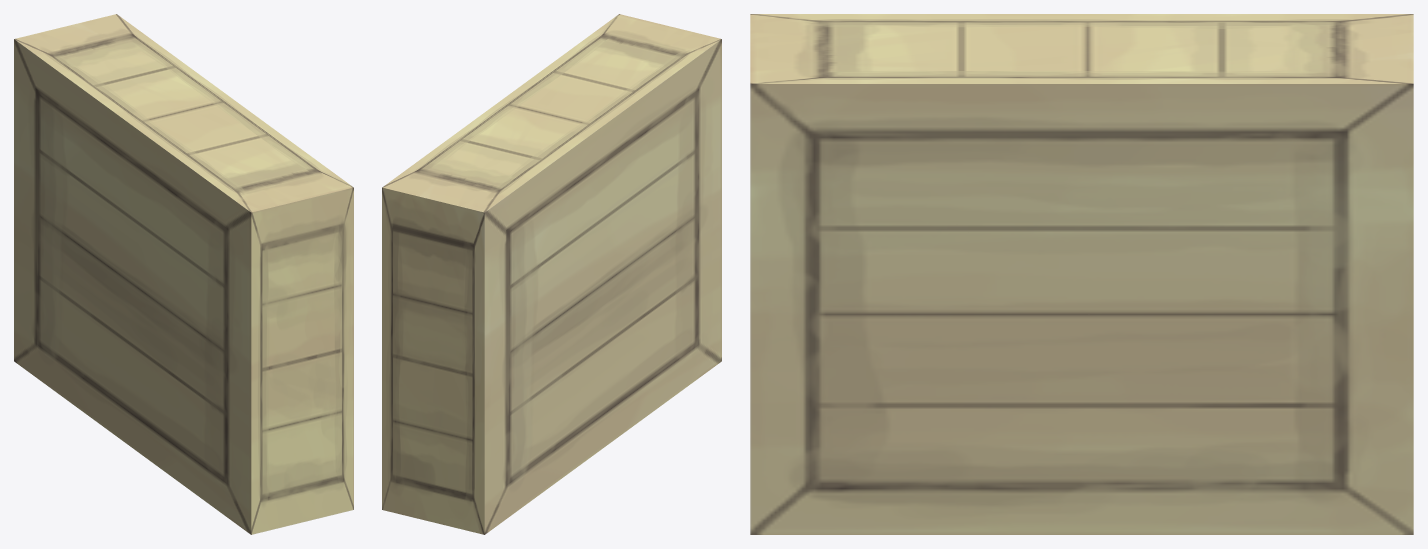
File: LightWoodMechTallSlattedCrate1.fbx
3 views of the same model, side by side, from view 1: azimuth 30°, elevation 25°; view 2: azimuth 150°, elevation 25°; view 3: azimuth 270°, elevation 25° (orthographic). The views are drawn at different scales.
Visible parts, largest first — view 1: LightWoodMechTallSlattedCrate1; view 2: LightWoodMechTallSlattedCrate1; view 3: LightWoodMechTallSlattedCrate1.
Part boxes in pixels (x1=…): LightWoodMechTallSlattedCrate1: x1=14, y1=14, x2=353, y2=534; LightWoodMechTallSlattedCrate1: x1=382, y1=14, x2=721, y2=534; LightWoodMechTallSlattedCrate1: x1=750, y1=14, x2=1413, y2=534.
Size of the model in its own units: 100 by 300 by 400.
1 material, 1 textured.
